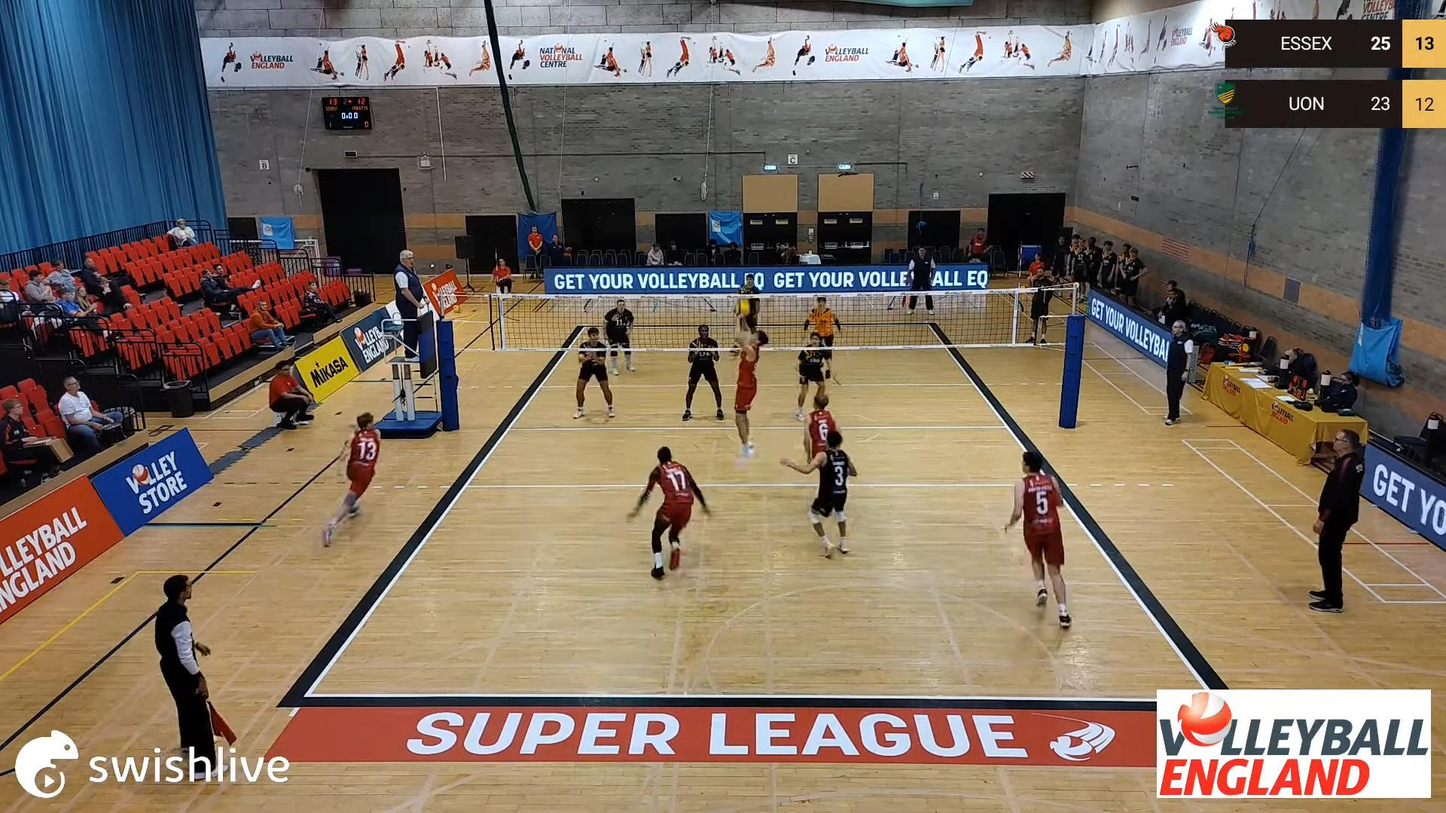alzata: (731, 315, 769, 459)
